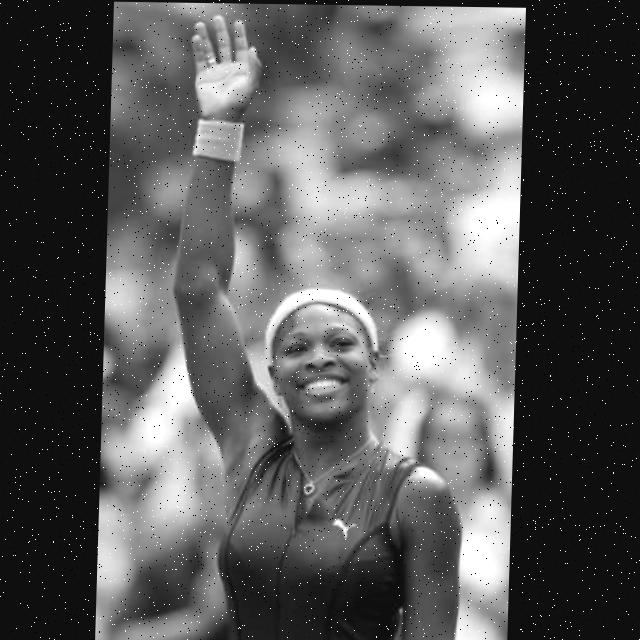face: (265, 301, 388, 439)
